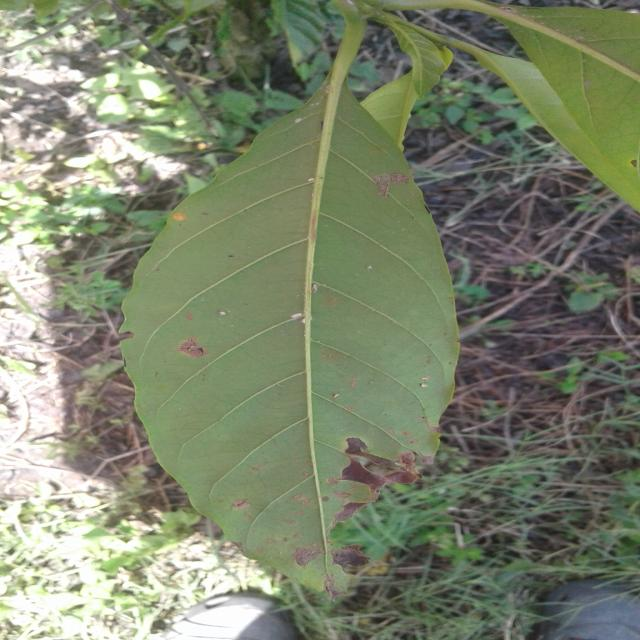Enfermedad-Roya: (118, 56, 461, 592)
